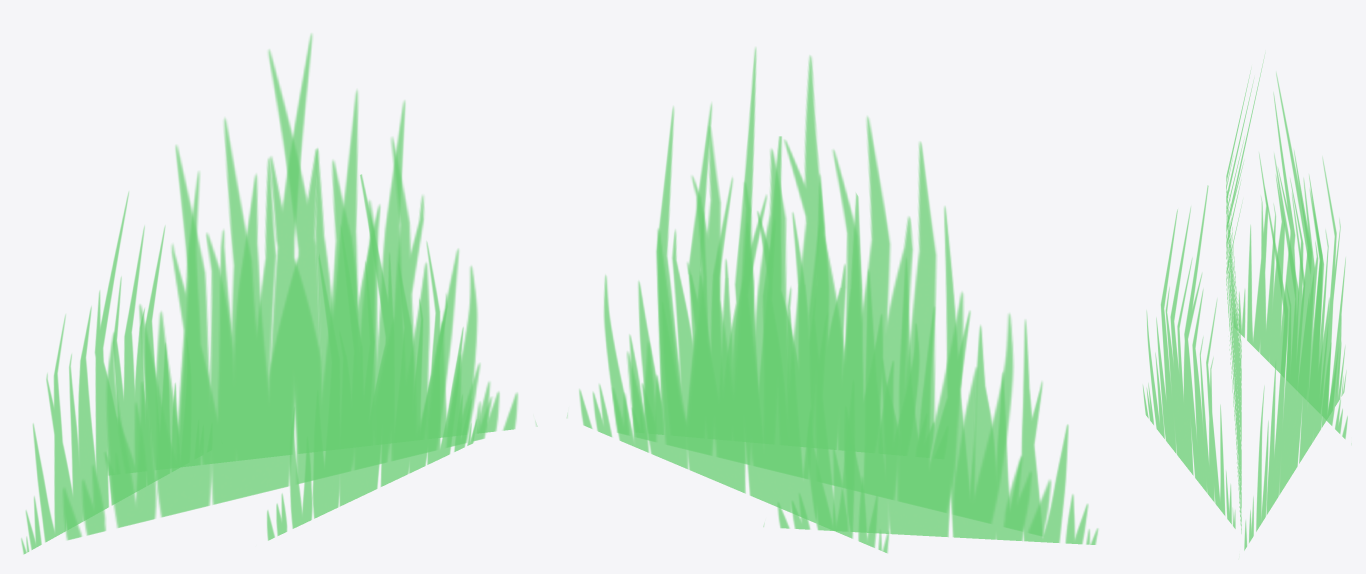
File: grass_2.glb
3 renders of one model, left to right at view 1: azimuth 30°, elevation 25°; view 2: azimuth 150°, elevation 25°; view 3: azimuth 270°, elevation 25°, orthographic. The views are drawn at different scales.
Parts seen in each view (by area): view 1: Plane.003; view 2: Plane.003; view 3: Plane.003.
Boxes of the visible parts, bbox=[...] form: Plane.003: bbox=[21, 33, 537, 554]; Plane.003: bbox=[567, 47, 1098, 553]; Plane.003: bbox=[1143, 55, 1351, 550].
Bounding box in the file's own units: 2.38 × 1.91 × 0.8911.
1 material, 1 textured.
